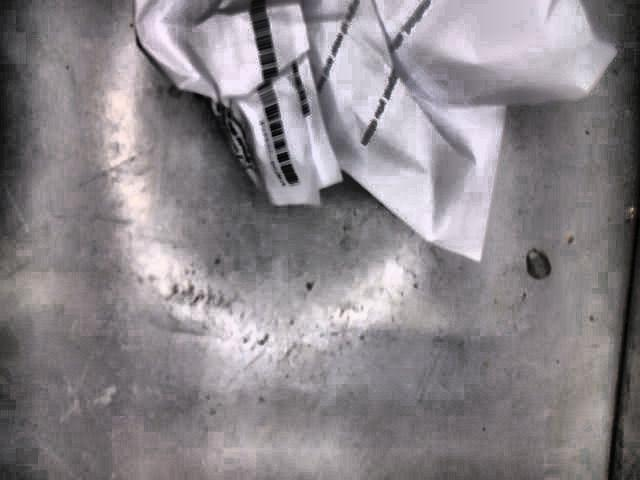Paper: (133, 0, 613, 263)
